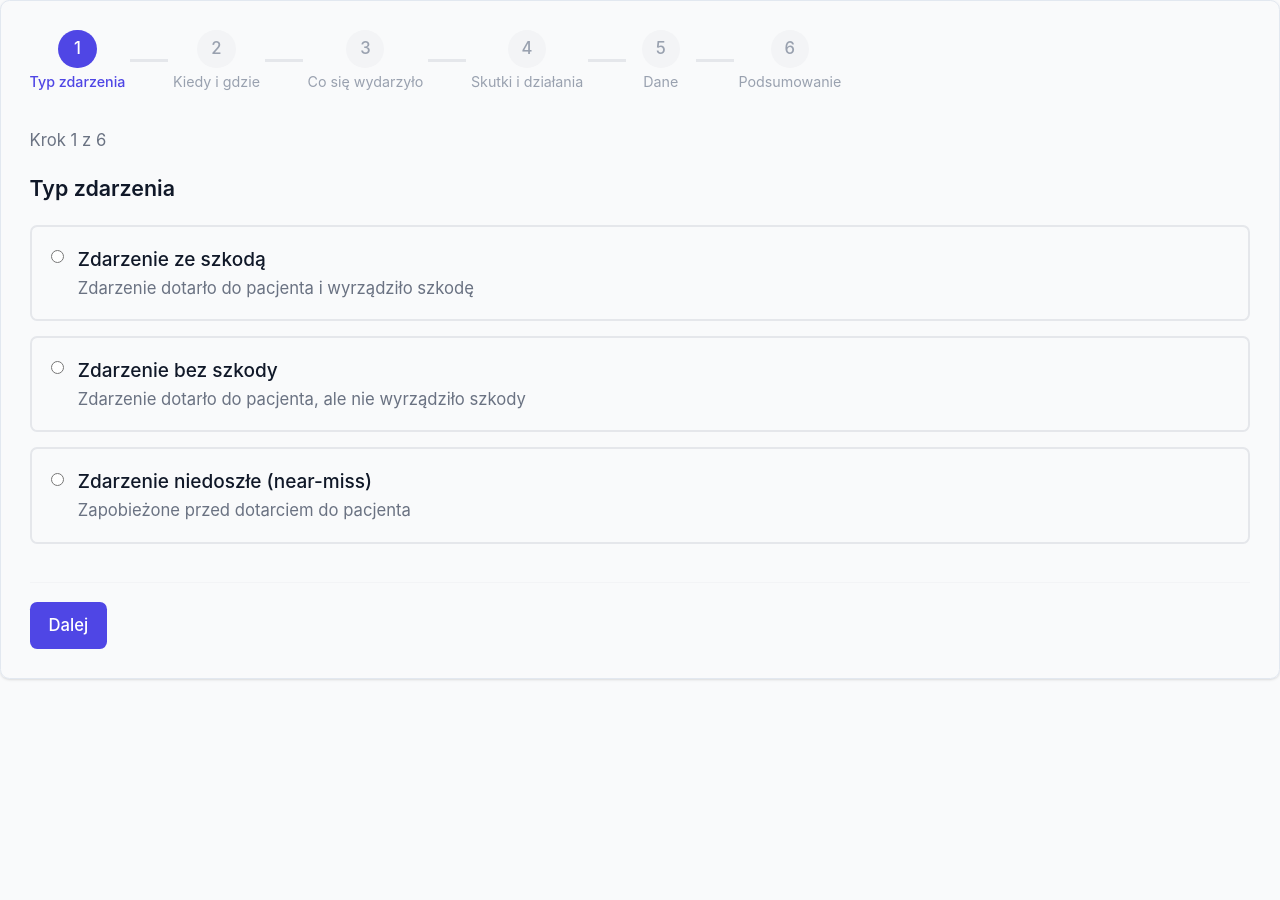
Scenario: IncidentForm › advances to step 2 after selecting event type and clicking next
Step 1. Click the radio button labelled "Zdarzenie ze szkodą" → (57, 257), box [51,250,64,263]
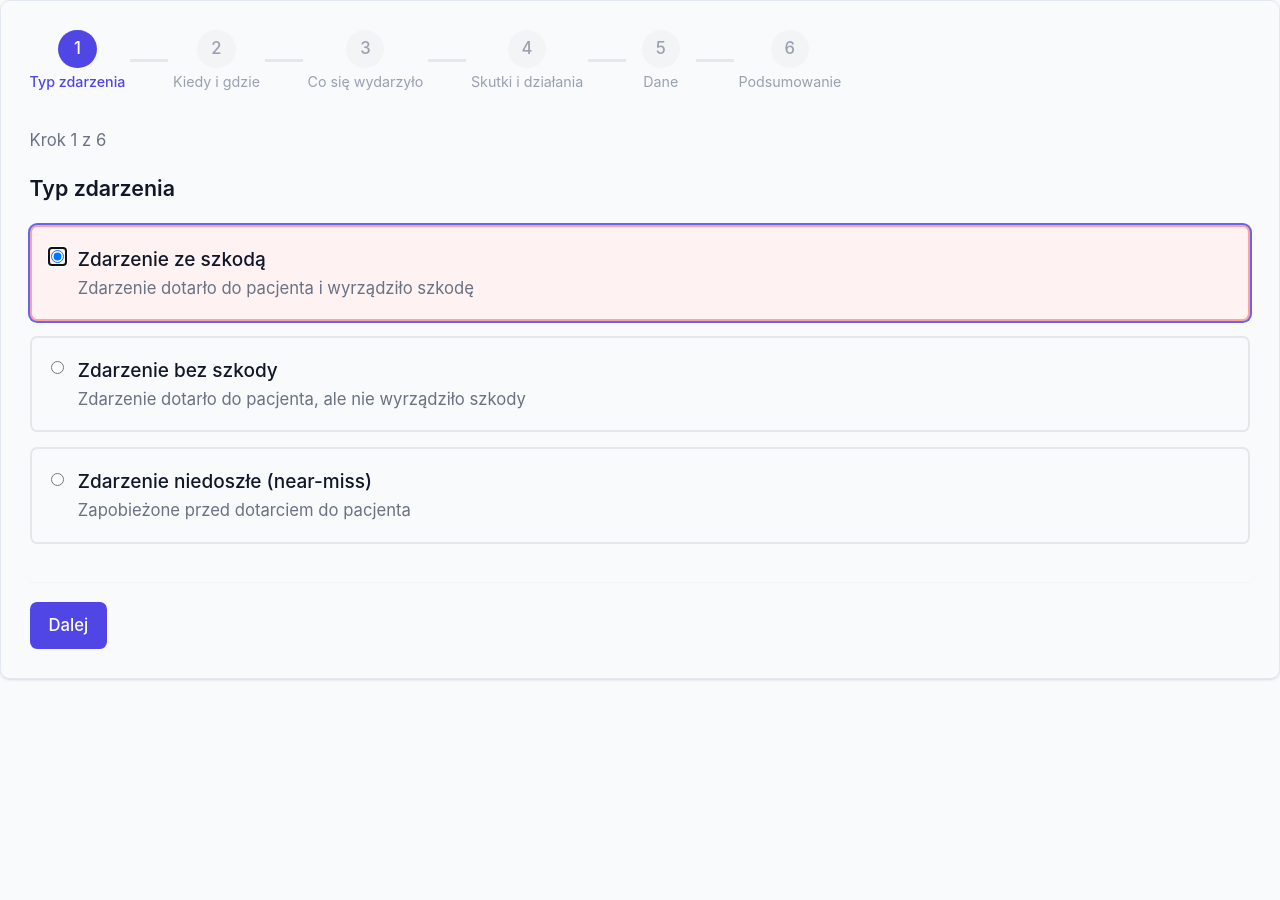
Step 2. Click the button "Dalej" → (68, 625), box [30,602,107,649]
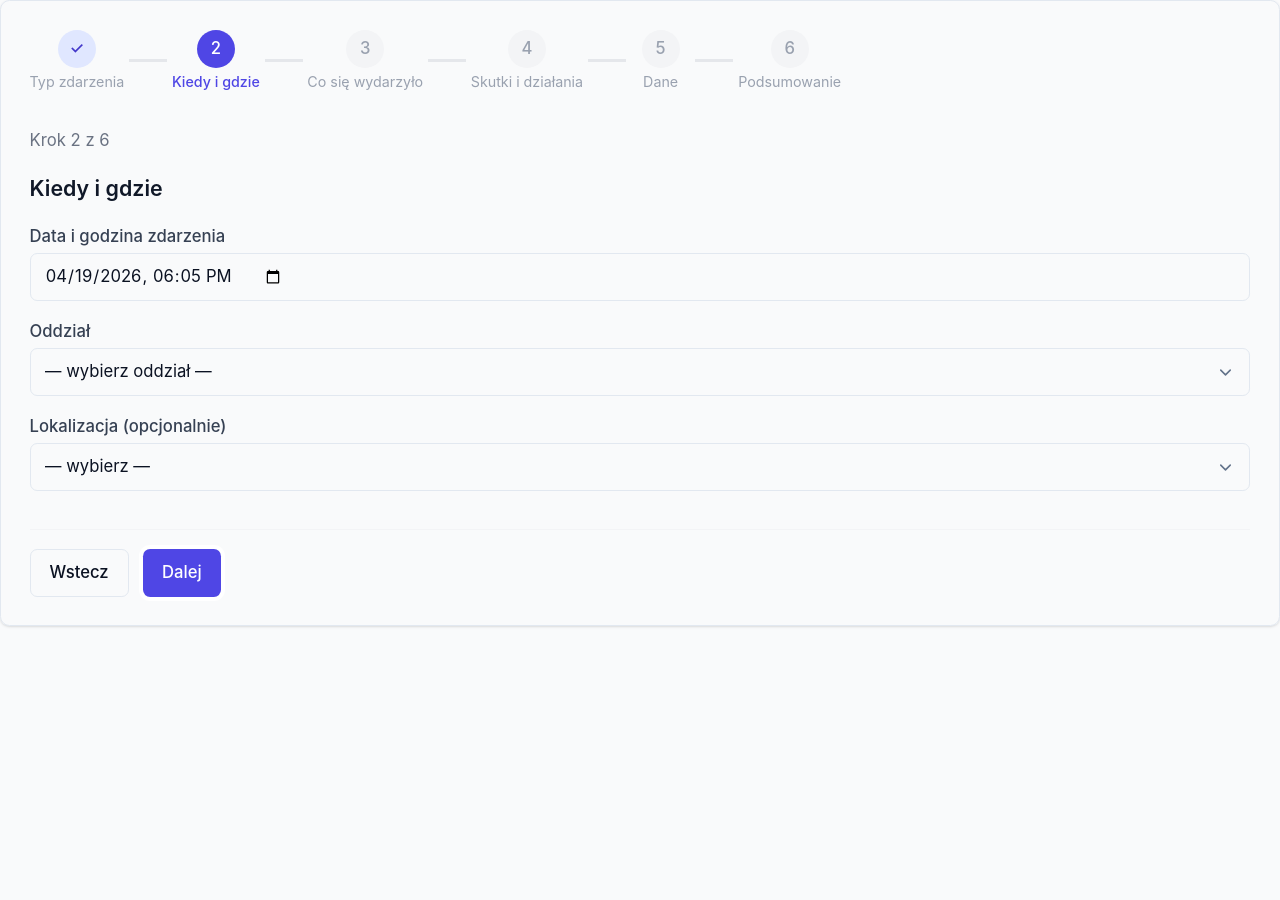
Now the element "Kiedy i gdzie" is shown, box [30,172,1250,491]
